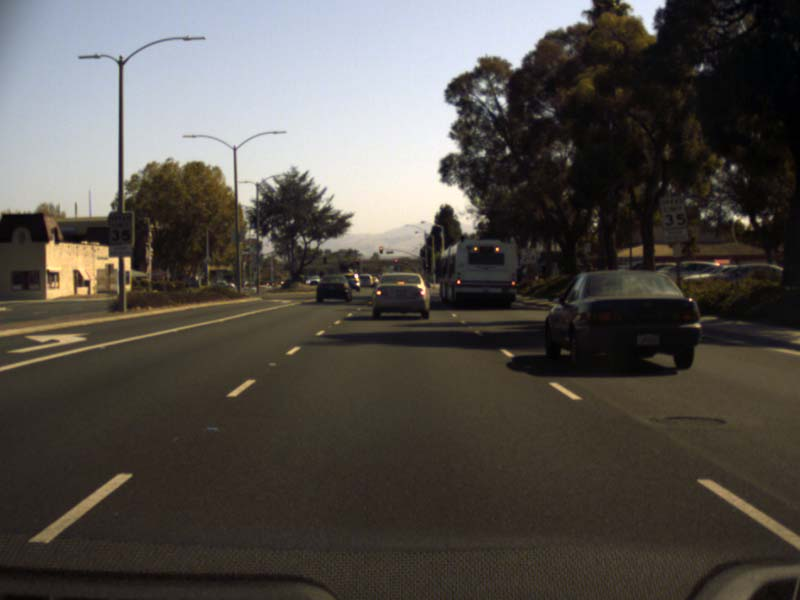Red: (393, 257, 398, 264), (379, 246, 383, 253), (355, 258, 359, 265)
Yellow: (403, 258, 409, 266)
